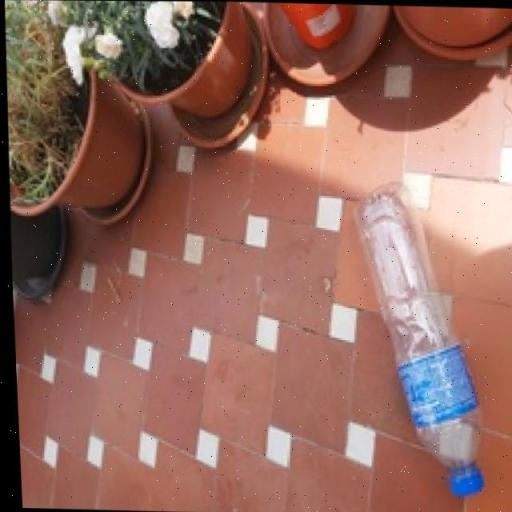plastic: (347, 183, 476, 497)
